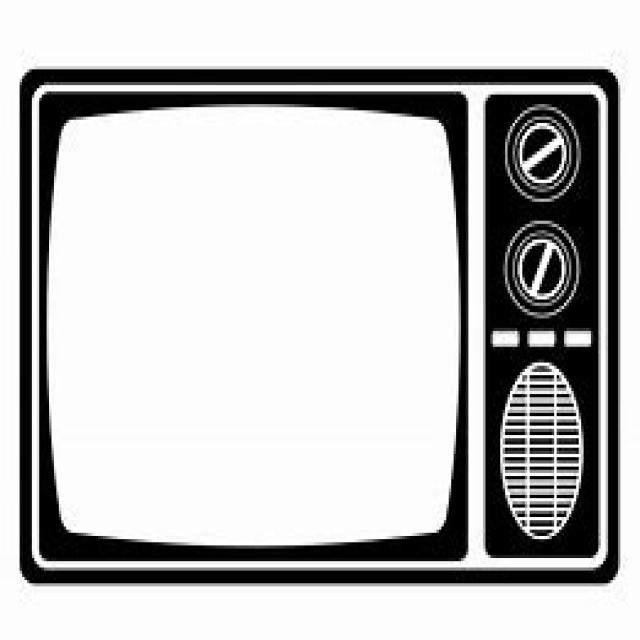tv: (17, 66, 618, 583)
